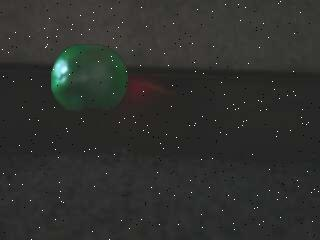Lime: (50, 43, 125, 113)
